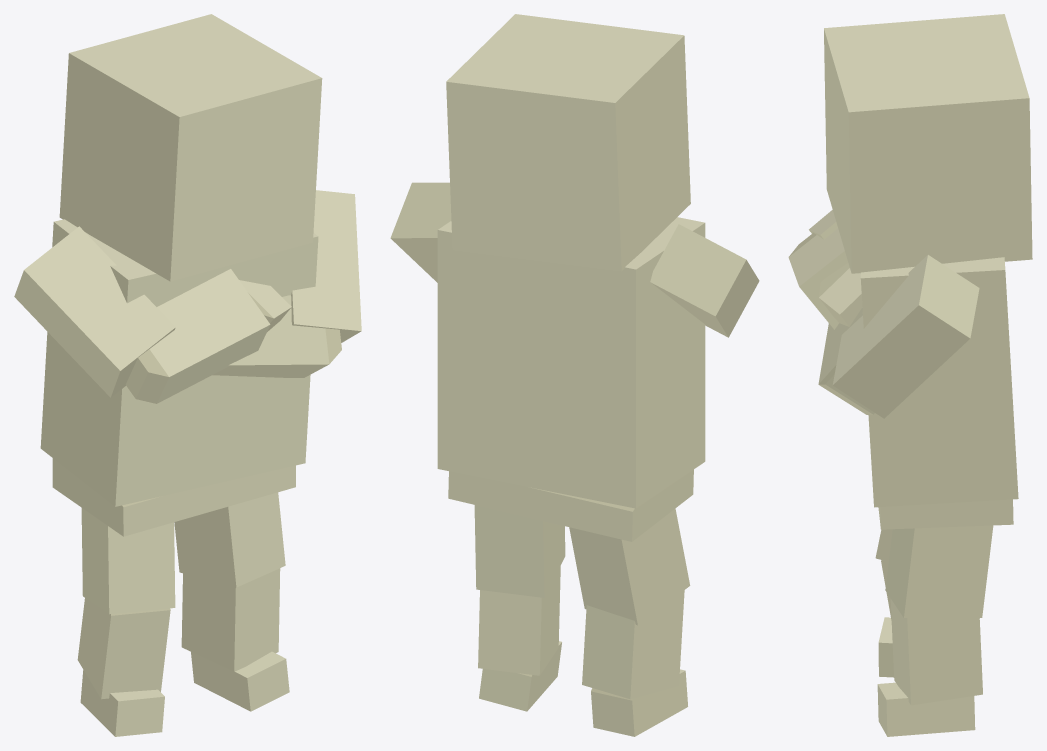
File: Mannequin4.glb
3 renders of one model, left to right at view 1: azimuth 30°, elevation 25°; view 2: azimuth 150°, elevation 25°; view 3: azimuth 270°, elevation 25°, orthographic.
Parts seen in each view (by area): view 1: SI_Prop_Mannequin_04; view 2: SI_Prop_Mannequin_04; view 3: SI_Prop_Mannequin_04.
Part boxes in pixels (box(x1,y1,x2,y2)): SI_Prop_Mannequin_04: box(14, 14, 361, 736); SI_Prop_Mannequin_04: box(390, 14, 759, 736); SI_Prop_Mannequin_04: box(788, 14, 1032, 736).
Size of the model in its own units: 0.015 by 0.0279 by 0.0095.
Materials: 1 (1 with a texture image).
